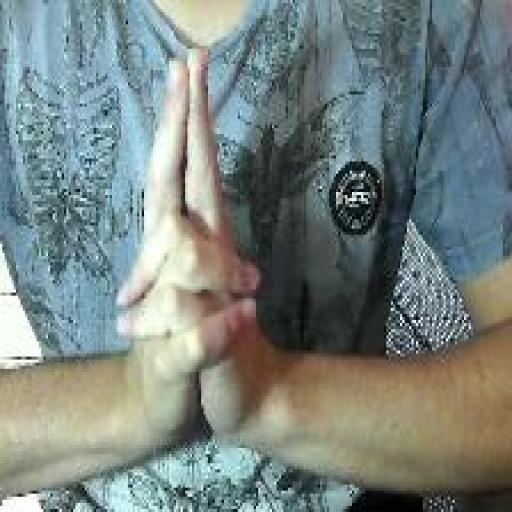Tora -tiger-: (112, 40, 267, 457)
